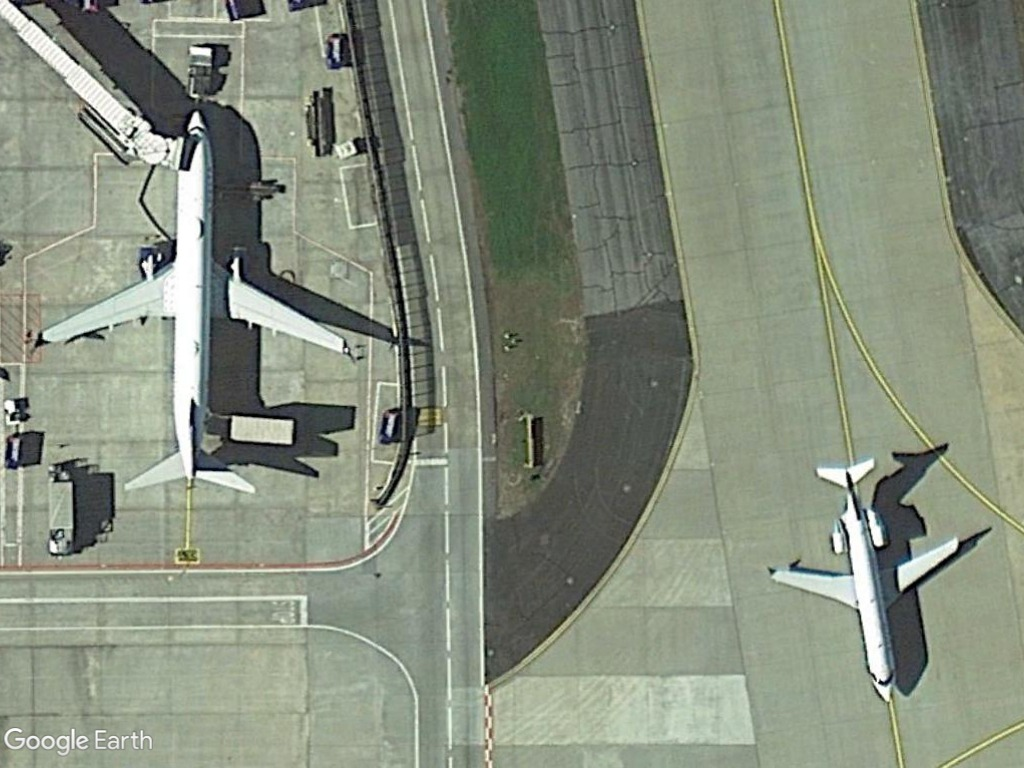airliner: (33, 106, 361, 500)
chartered: (765, 459, 964, 708)
